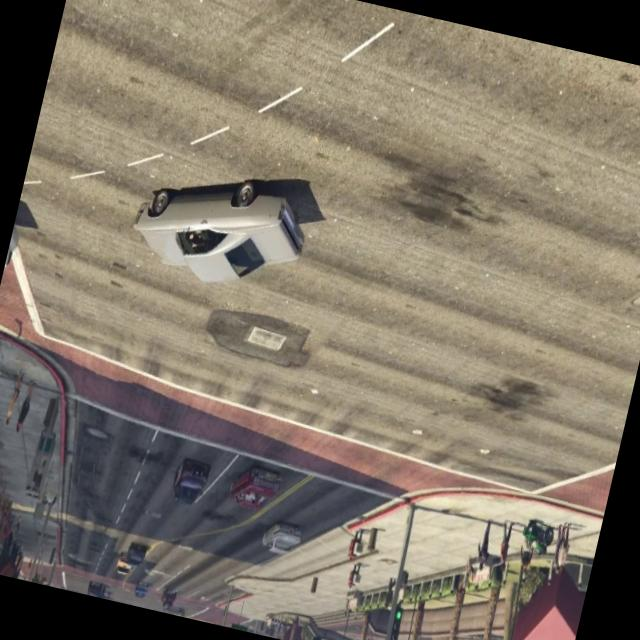Green-Signal: (382, 597, 409, 640), (228, 610, 254, 632), (306, 627, 327, 640)
